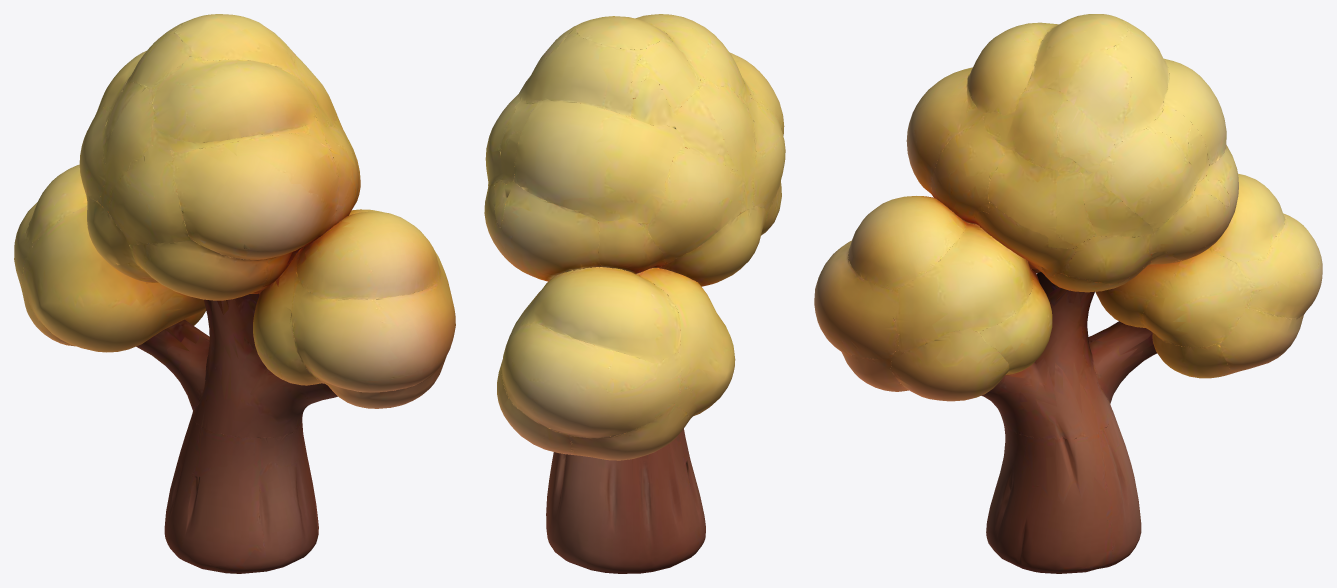
File: E02-autumn-maple-tree.glb
The picture shows the model from 3 angles, left to right: view 1: azimuth 30°, elevation 25°; view 2: azimuth 150°, elevation 25°; view 3: azimuth 270°, elevation 25°; orthographic projection. The views are drawn at different scales.
Visible parts, largest first — view 1: E02-autumn-maple-tree; view 2: E02-autumn-maple-tree; view 3: E02-autumn-maple-tree.
Part boxes in pixels (<box>): E02-autumn-maple-tree: <box>14,14,455,573</box>; E02-autumn-maple-tree: <box>484,14,785,573</box>; E02-autumn-maple-tree: <box>814,14,1322,573</box>.
Bounding box in the file's own units: 2.97 × 5 × 4.41.
Materials: 1 (1 with a texture image).
